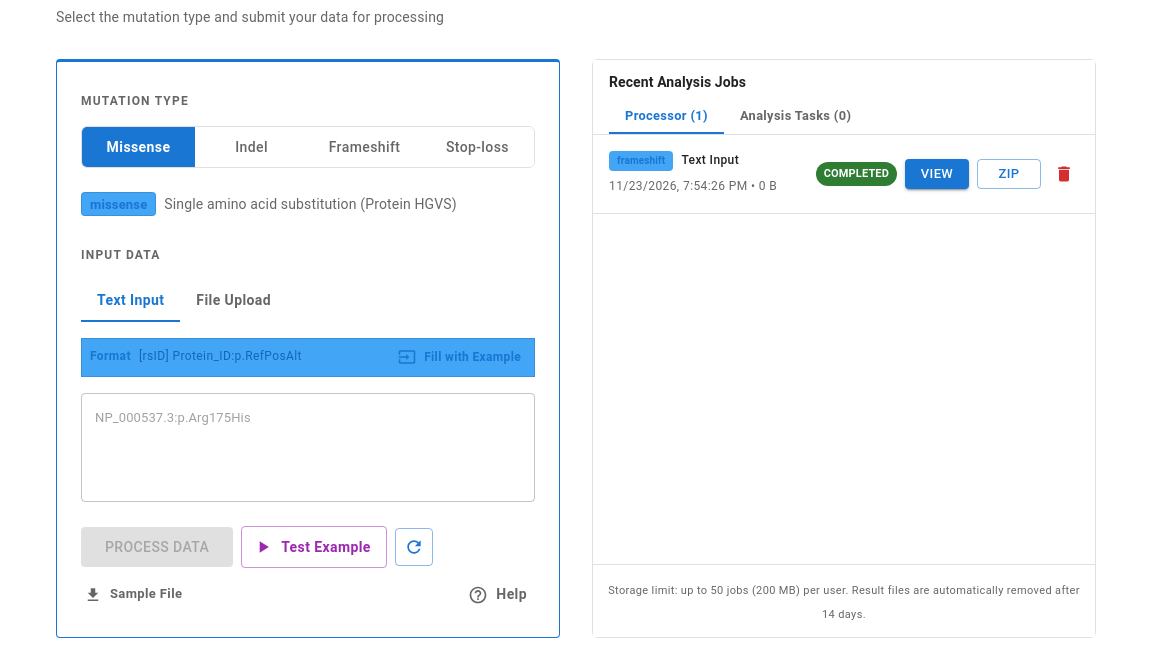
Test: saidas do Processor (I52) e resumo de rejeicoes › frameshift mostra inframe, marca ext como nao gerada e lista as rejeicoes
Click the button "View": [937, 174] box [905,159,969,189]
(page scrolled)
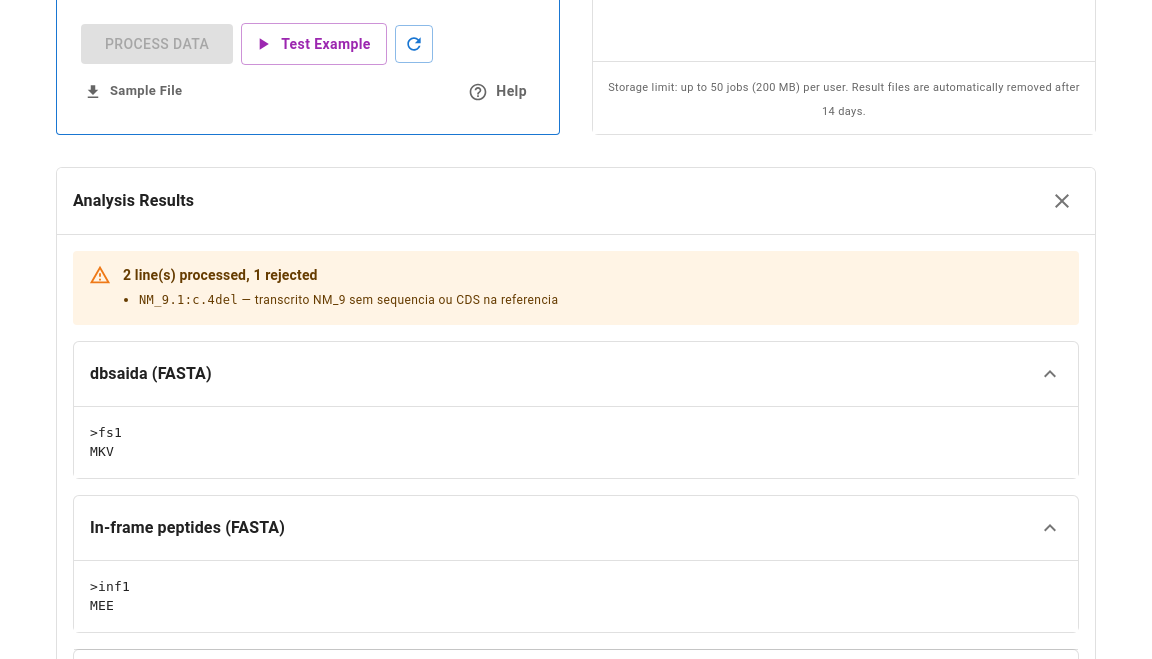
Check: the text "In-frame peptides (FASTA)" is shown, box [90,516,285,540]
Check: the text ">inf1 MEE" is shown, box [74,561,1078,632]
Check: the text "2 line(s) processed, 1 rejected" is shown, box [123,267,318,283]
